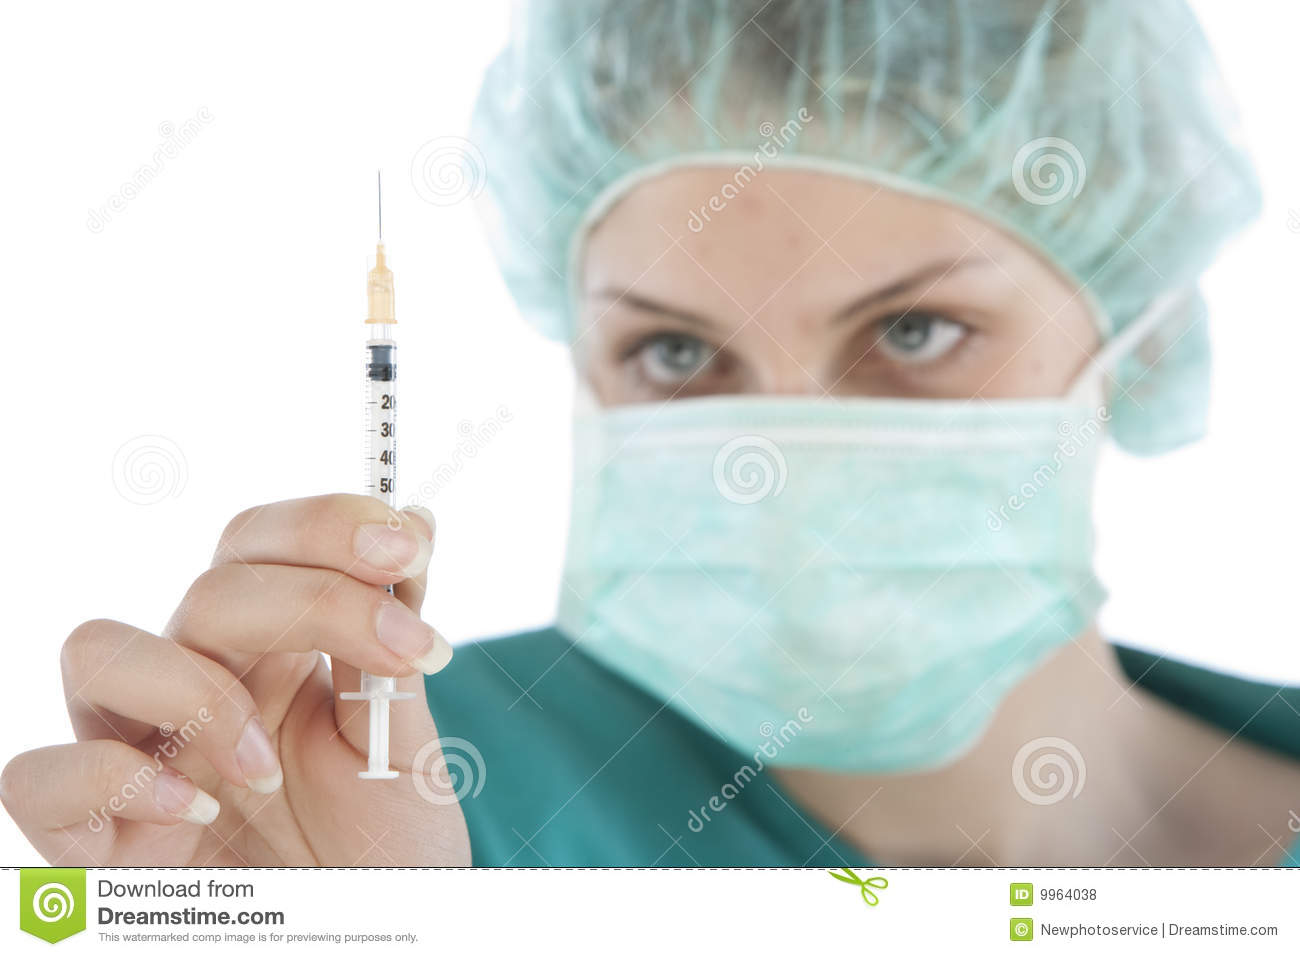mask: (566, 405, 1125, 749)
